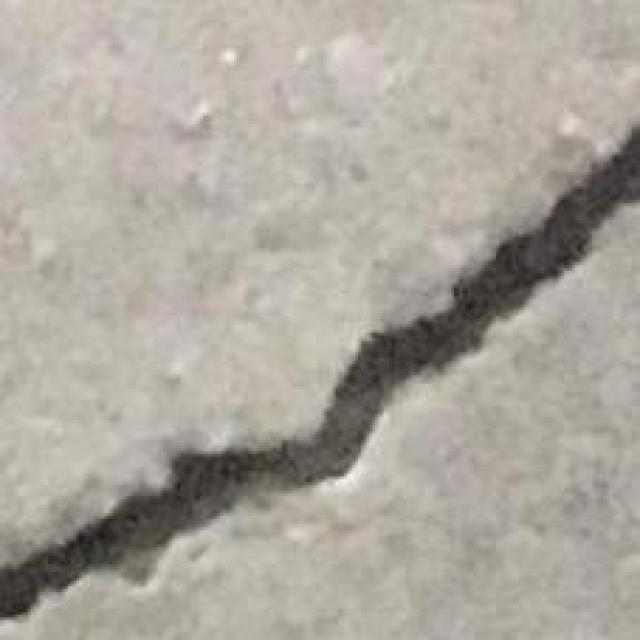diagonal crack: (0, 126, 639, 619)
